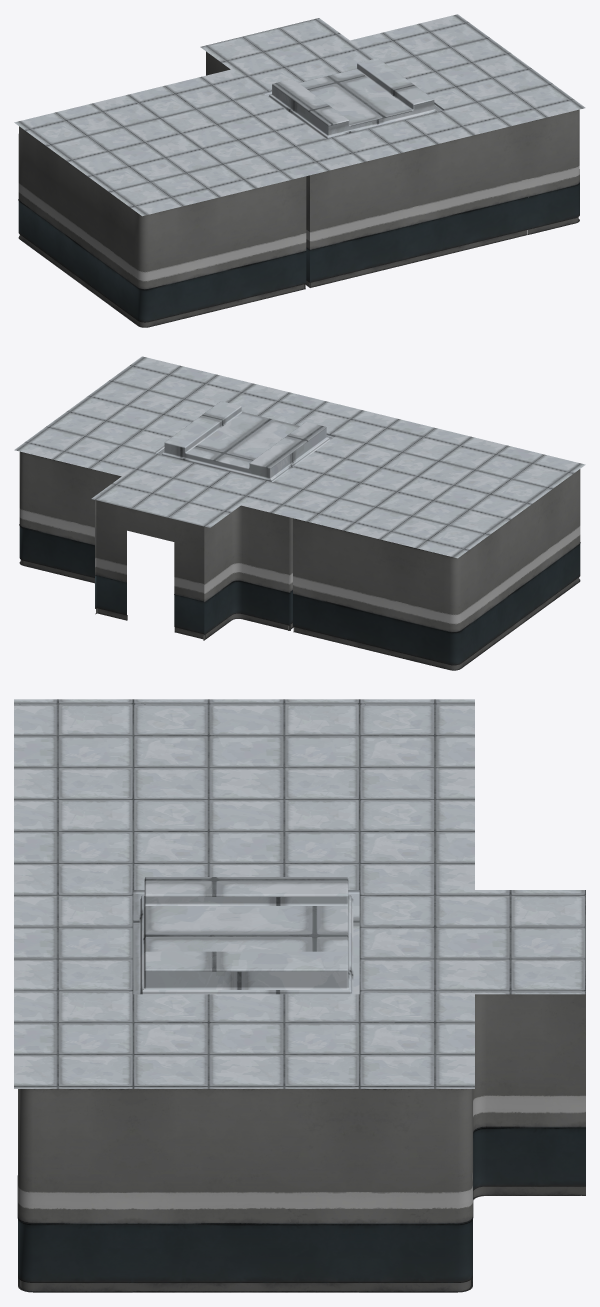
The model's file is StylizingAiRoomModulars.fbx.
The picture shows the model from 3 angles, top to bottom: view 1: azimuth 30°, elevation 25°; view 2: azimuth 150°, elevation 25°; view 3: azimuth 270°, elevation 25°; orthographic projection. The views are drawn at different scales.
Parts seen in each view (by area): view 1: Floor.003, Sm_AIRoomWall_01.008, Sm_AIRoomWall_01.003, Sm_AIRoomWall_01.001, Sm_AIRoomWall_02.002, SM_Ceiling_02, Sm_AIRoomWall_01.007, Sm_AIRoomWall_02.004, Sm_AIRoomWall_02.001, Sm_AIRoomWall_01.004; view 2: Floor.003, Sm_AIRoomWall_01.006, Sm_AIRoomWall_02.001, Sm_AIRoomWall_03.002, Plane.003, SM_Ceiling_02, Sm_AIRoomWall_01.007, Sm_AIRoomWall_02.003, Sm_AIRoomWall_03.001, Sm_AIRoomWall_02.002, Plane.004; view 3: Floor.003, Sm_AIRoomWall_01.002, SM_Ceiling_02, Sm_AIRoomWall_02.004, Sm_AIRoomWall_02.003, Sm_AIRoomWall_03.001.
Part boxes in pixels (<box>): Floor.003: <box>14,14,585,216</box>; Sm_AIRoomWall_01.008: <box>196,176,306,315</box>; Sm_AIRoomWall_01.003: <box>418,122,527,261</box>; Sm_AIRoomWall_01.001: <box>309,149,418,287</box>; Sm_AIRoomWall_02.002: <box>110,193,197,327</box>; SM_Ceiling_02: <box>263,58,444,138</box>; Sm_AIRoomWall_01.007: <box>47,147,111,305</box>; Sm_AIRoomWall_02.004: <box>527,109,579,234</box>; Sm_AIRoomWall_02.001: <box>18,126,48,259</box>; Sm_AIRoomWall_01.004: <box>305,175,310,287</box>; Floor.003: <box>14,356,585,558</box>; Sm_AIRoomWall_01.006: <box>293,518,402,658</box>; Sm_AIRoomWall_02.001: <box>402,536,488,670</box>; Sm_AIRoomWall_03.002: <box>203,505,290,640</box>; Plane.003: <box>96,500,205,639</box>; SM_Ceiling_02: <box>154,401,335,481</box>; Sm_AIRoomWall_01.007: <box>488,490,551,648</box>; Sm_AIRoomWall_02.003: <box>19,451,72,577</box>; Sm_AIRoomWall_03.001: <box>71,464,121,614</box>; Sm_AIRoomWall_02.002: <box>551,469,580,602</box>; Plane.004: <box>288,517,293,630</box>; Floor.003: <box>14,699,585,1088</box>; Sm_AIRoomWall_01.002: <box>132,1089,358,1292</box>; SM_Ceiling_02: <box>133,877,359,994</box>; Sm_AIRoomWall_02.004: <box>17,1089,132,1292</box>; Sm_AIRoomWall_02.003: <box>359,1089,473,1292</box>; Sm_AIRoomWall_03.001: <box>473,994,585,1199</box>.
Bounding box in the file's own units: 815 × 218 × 506.
